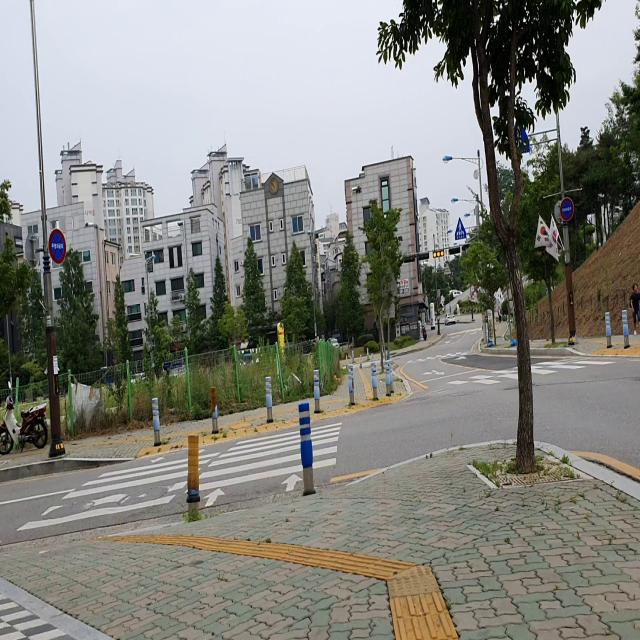횡단보도: (14, 420, 344, 533), (414, 357, 616, 388)
